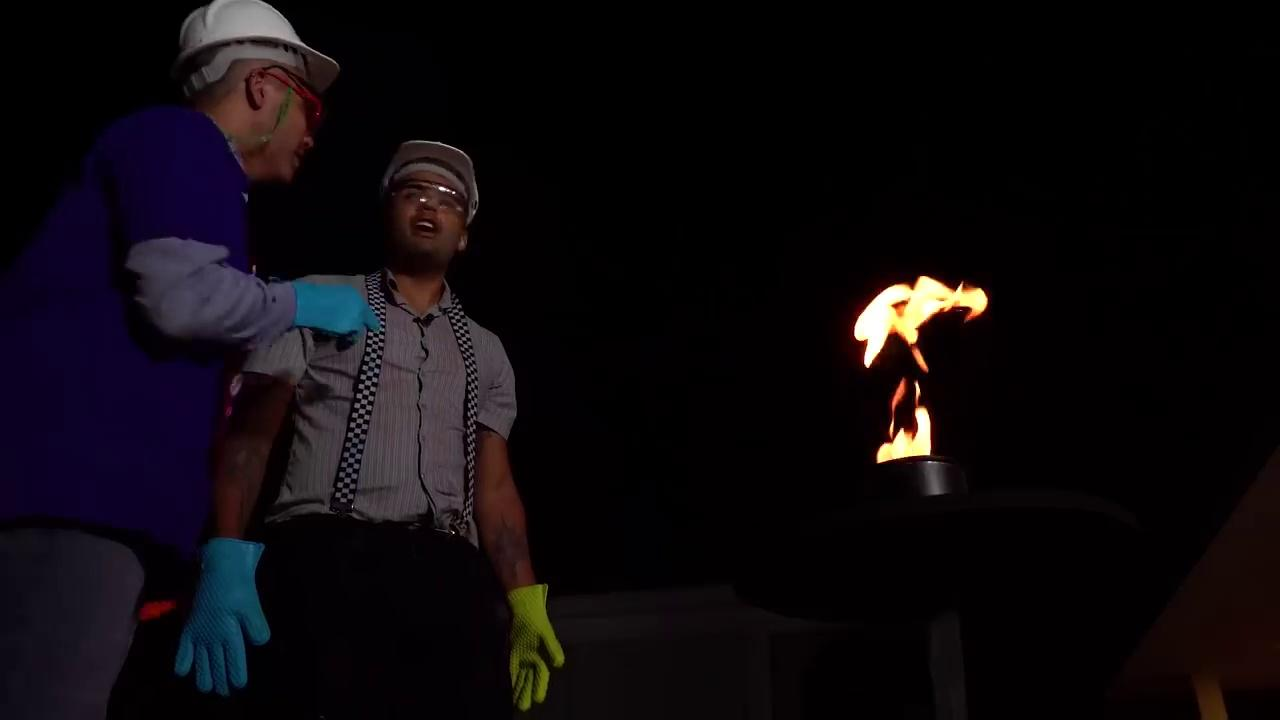fire: (807, 269, 984, 458)
